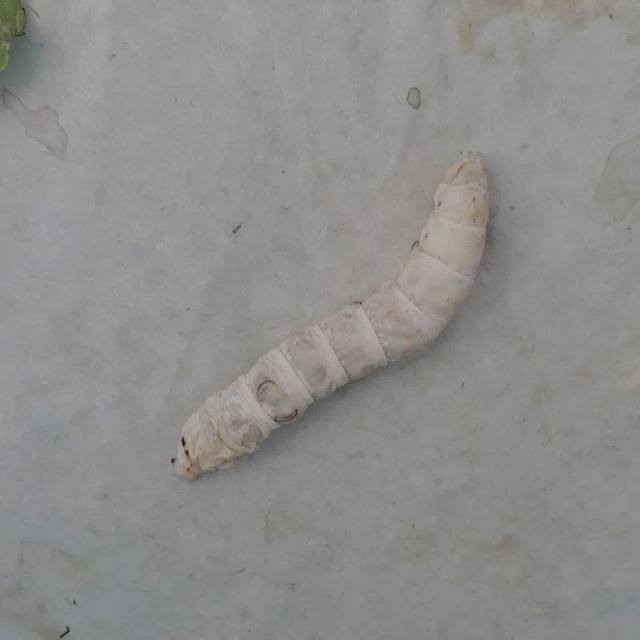Grasserie: (165, 133, 501, 497)
